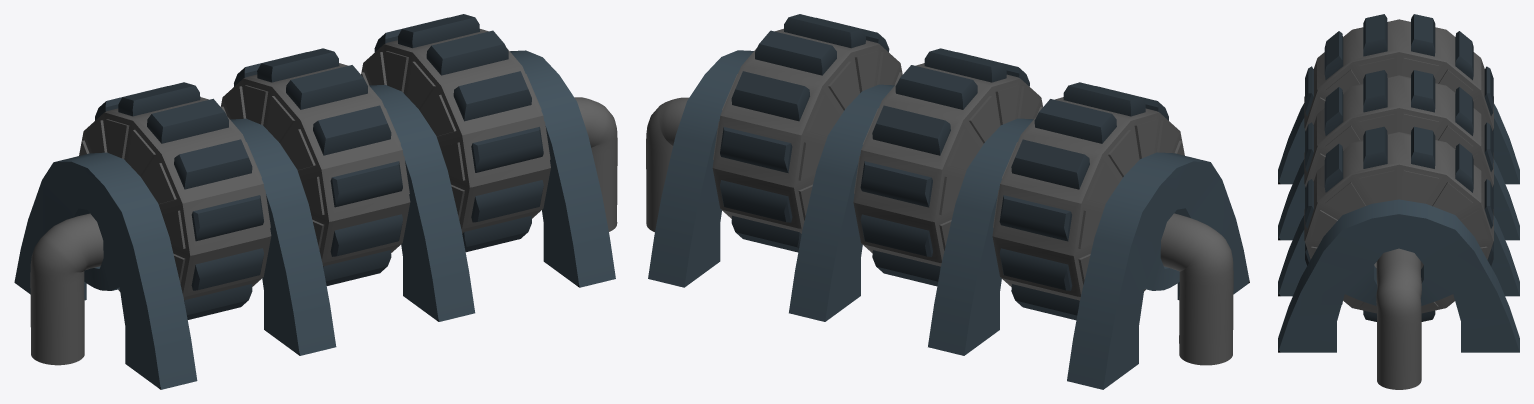
File: Estructura_01.fbx
The picture shows the model from 3 angles, left to right: view 1: azimuth 30°, elevation 25°; view 2: azimuth 150°, elevation 25°; view 3: azimuth 270°, elevation 25°; orthographic projection. The views are drawn at different scales.
Parts seen in each view (by area): view 1: Generador con turbina; view 2: Generador con turbina; view 3: Generador con turbina.
Part boxes in pixels (<box>): Generador con turbina: <box>14,14,617,389</box>; Generador con turbina: <box>646,14,1249,389</box>; Generador con turbina: <box>1278,14,1519,389</box>.
Size of the model in its own units: 2150 by 800 by 941.
Materials: 1 (1 with a texture image).
